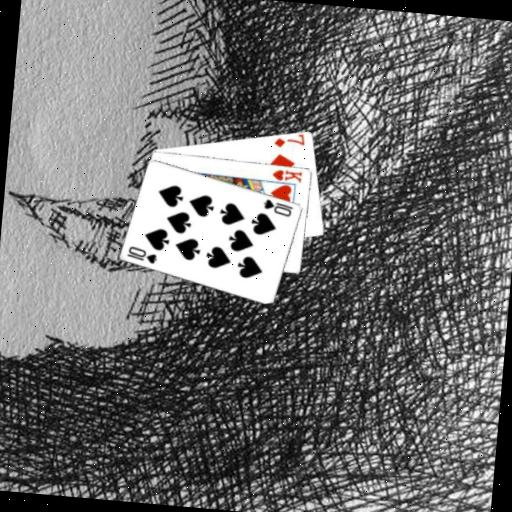10S: (123, 243, 160, 266), (260, 195, 296, 218)
7D: (271, 130, 308, 151)
KH: (269, 166, 304, 184)
